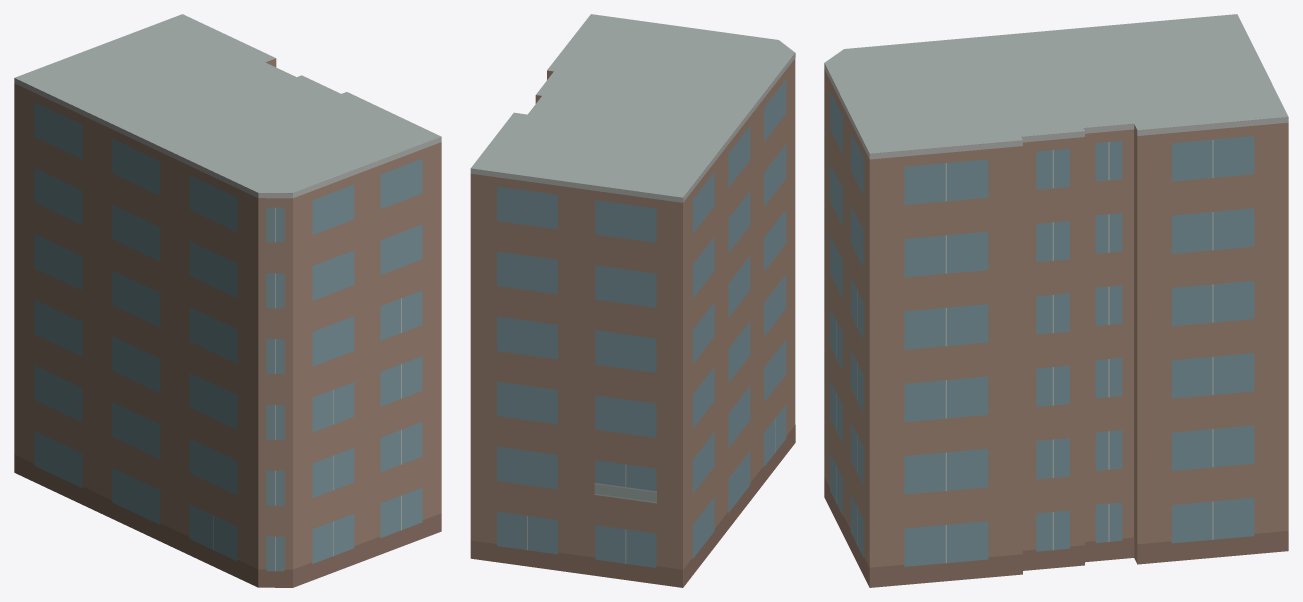
Rendered from survey-upis-33035131.glb.
3 renders of one model, left to right at view 1: azimuth 30°, elevation 25°; view 2: azimuth 150°, elevation 25°; view 3: azimuth 270°, elevation 25°, orthographic. The views are drawn at different scales.
Parts seen in each view (by area): view 1: survey-upis-33035131.tmp; view 2: survey-upis-33035131.tmp; view 3: survey-upis-33035131.tmp.
Part boxes in pixels (bbox=[...]): survey-upis-33035131.tmp: bbox=[14, 14, 441, 587]; survey-upis-33035131.tmp: bbox=[470, 14, 795, 587]; survey-upis-33035131.tmp: bbox=[824, 14, 1288, 587].
Size of the model in its own units: 12.57 by 18.2 by 17.65.
